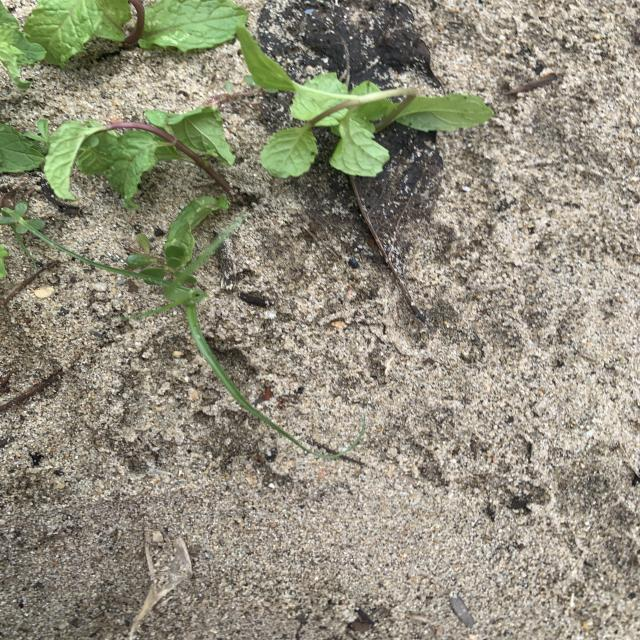crop: (238, 28, 492, 177), (44, 107, 240, 244), (0, 0, 247, 90)
weed: (31, 213, 292, 440), (125, 233, 196, 285), (0, 202, 45, 234)
